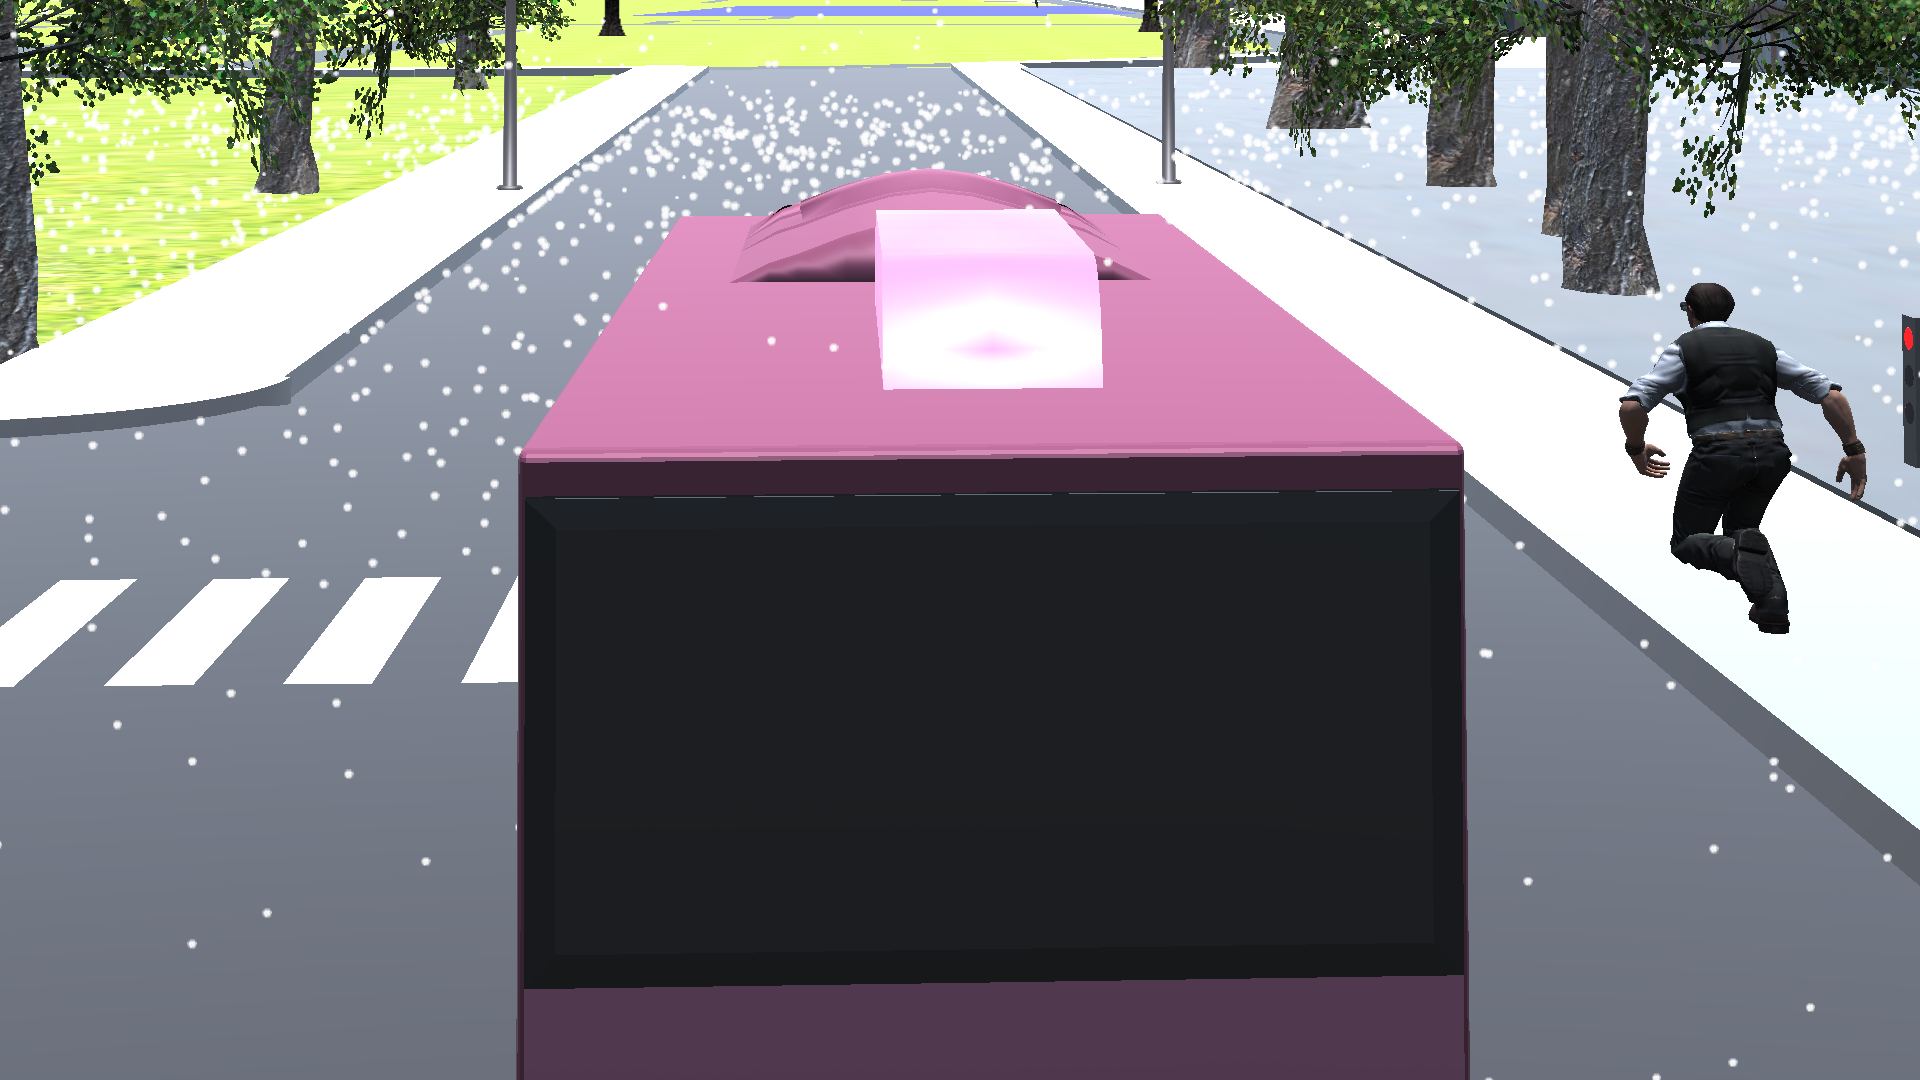pedestrian: (1611, 270, 1877, 674)
